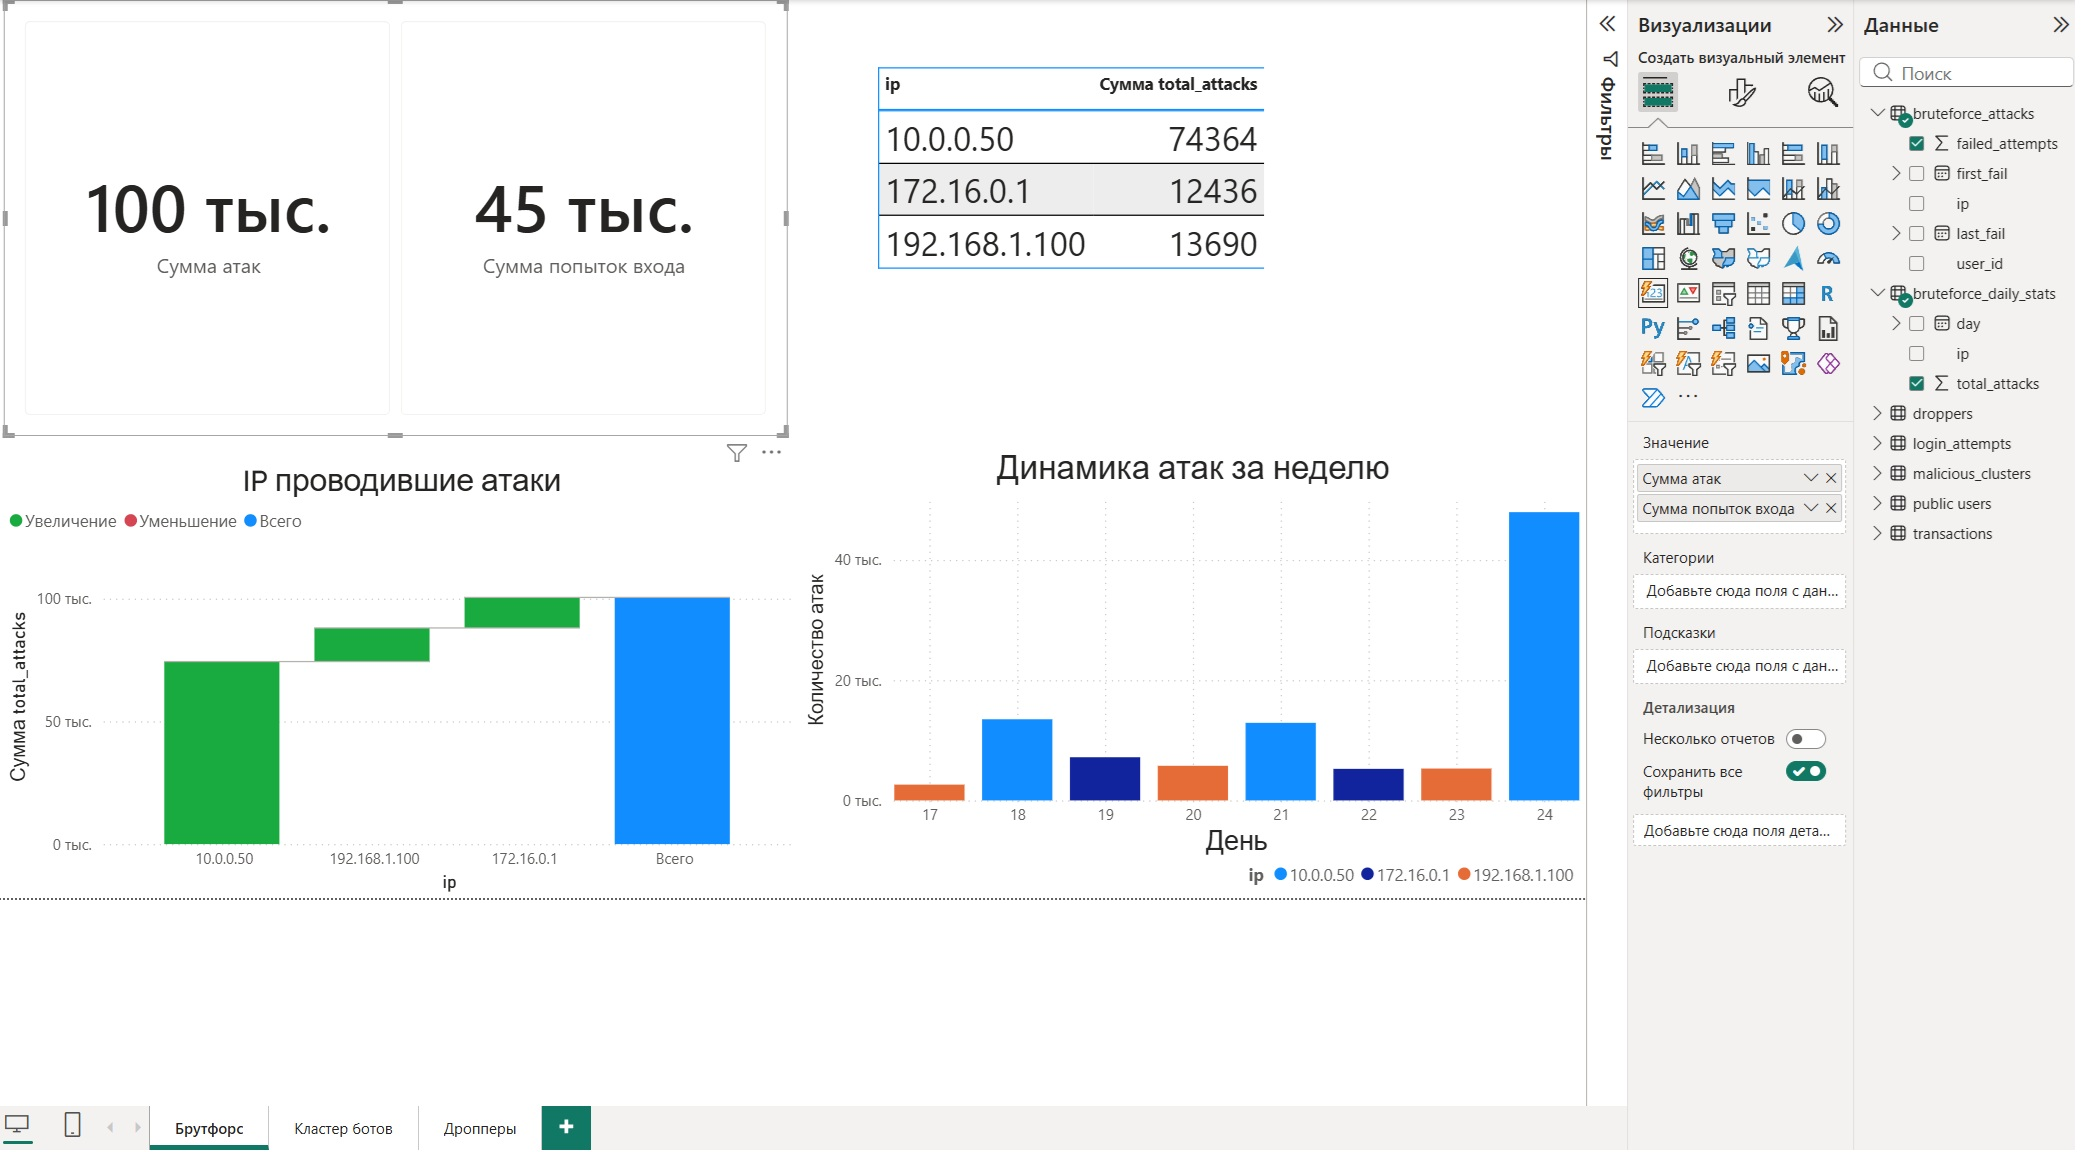

This screenshot's page, from the dashboard's own definition file:
{"tool":"powerbi","page":{"name":"Брутфорс","canvas":[1280,720],"ordinal":0},"visuals":[{"type":"columnChart","title":"Динамика атак за неделю","fields":{"Category":["bruteforce_daily_stats.day.Изменение.Иерархия дат.День"],"Y":["Sum(bruteforce_daily_stats.total_attacks)"],"Series":["bruteforce_daily_stats.ip"]},"box":[651.1,360.2,629.2,360.2],"z":0},{"type":"waterfallChart","title":"IP проводившие атаки","fields":{"Category":["bruteforce_daily_stats.ip"],"Y":["Sum(bruteforce_daily_stats.total_attacks)"]},"box":[10.4,370.6,640.7,349.8],"z":1000},{"type":"tableEx","fields":{"Values":["bruteforce_daily_stats.ip","Sum(bruteforce_daily_stats.total_attacks)"]},"box":[705.8,49.1,549.4,300.8],"z":2000},{"type":"cardVisual","fields":{"Data":["Sum(bruteforce_daily_stats.total_attacks)","Sum(bruteforce_attacks.failed_attempts)"]},"box":[10.7,0,628.9,350.2],"z":3000}]}

Visuals, with their boxes on the page's 1280x720 design canvas (x1, y1, x2, y2). These are canvas units, not pixel positions in the 2087x1152 screenshot, which may show the page scaled, cropped or inside an application window:
"Динамика атак за неделю" columnChart: select_region(651, 360, 1280, 720)
"IP проводившие атаки" waterfallChart: select_region(10, 371, 651, 720)
tableEx - bruteforce_daily_stats.ip x Sum(bruteforce_daily_stats.total_attacks): select_region(706, 49, 1255, 350)
cardVisual - Sum(bruteforce_daily_stats.total_attacks) x Sum(bruteforce_attacks.failed_attempts): select_region(11, 0, 640, 350)
